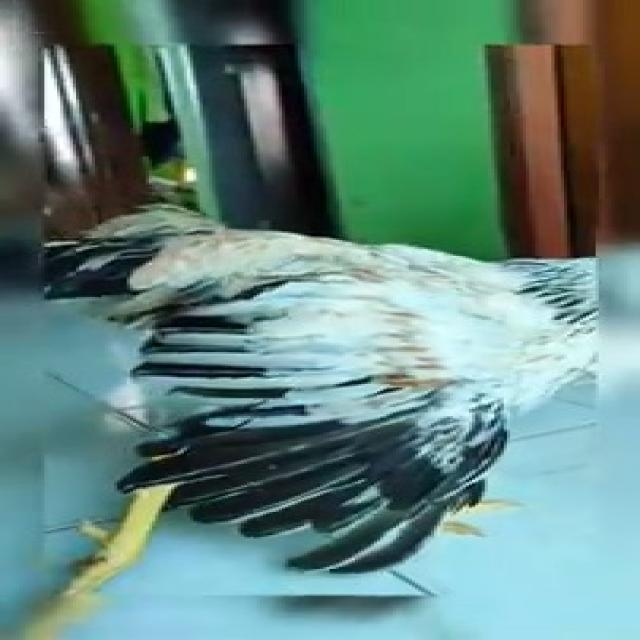wing and leg stretching: (0, 172, 621, 640)
